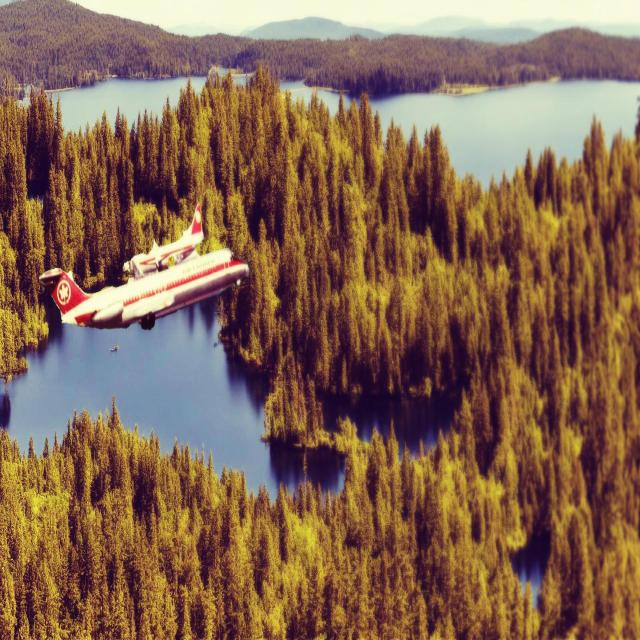airplane: (41, 245, 250, 331), (122, 202, 204, 280)
